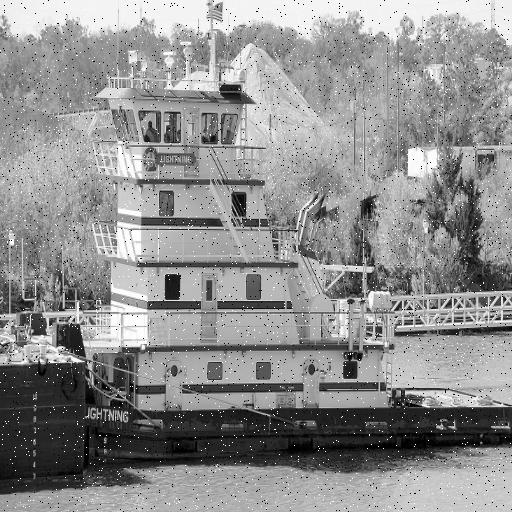tugboat: (13, 1, 512, 472)
